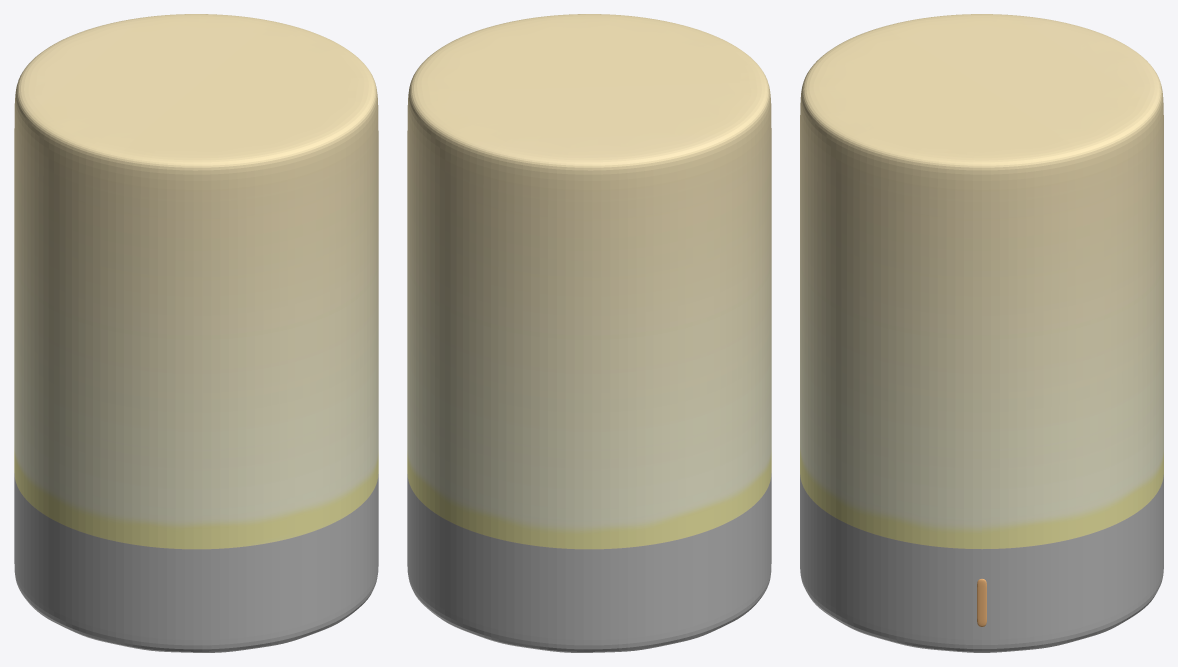
The model's file is aukey lamp.glb.
3 renders of one model, left to right at view 1: azimuth 30°, elevation 25°; view 2: azimuth 150°, elevation 25°; view 3: azimuth 270°, elevation 25°, orthographic.
Parts seen in each view (by area): view 1: Cylinder; view 2: Cylinder; view 3: Cylinder.
Boxes of the visible parts, bbox=[...] form: Cylinder: bbox=[14, 14, 378, 652]; Cylinder: bbox=[407, 14, 771, 652]; Cylinder: bbox=[800, 14, 1163, 652].
Bounding box in the file's own units: 3.85 × 5.79 × 3.84.
3 materials, 1 textured.
